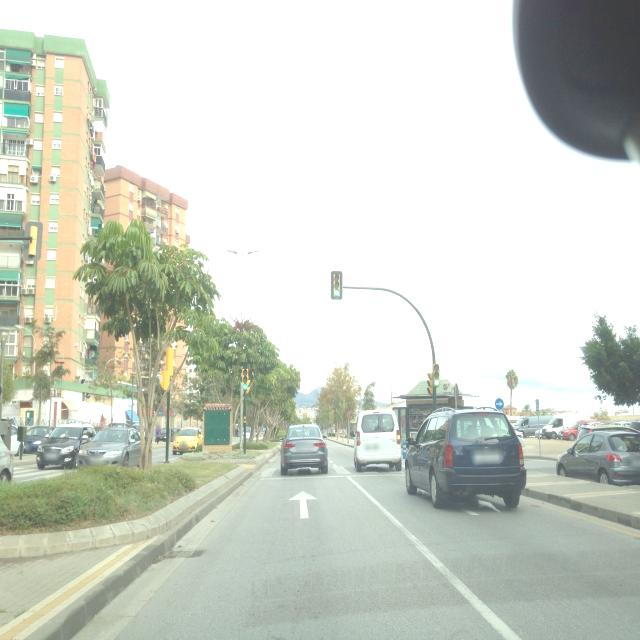car: (404, 405, 527, 510), (555, 429, 640, 487), (353, 408, 403, 473), (76, 427, 142, 469), (36, 424, 94, 471), (280, 423, 329, 476), (172, 427, 203, 455), (22, 426, 52, 454), (561, 419, 596, 441), (0, 435, 14, 486), (514, 416, 544, 438), (155, 426, 172, 444)
